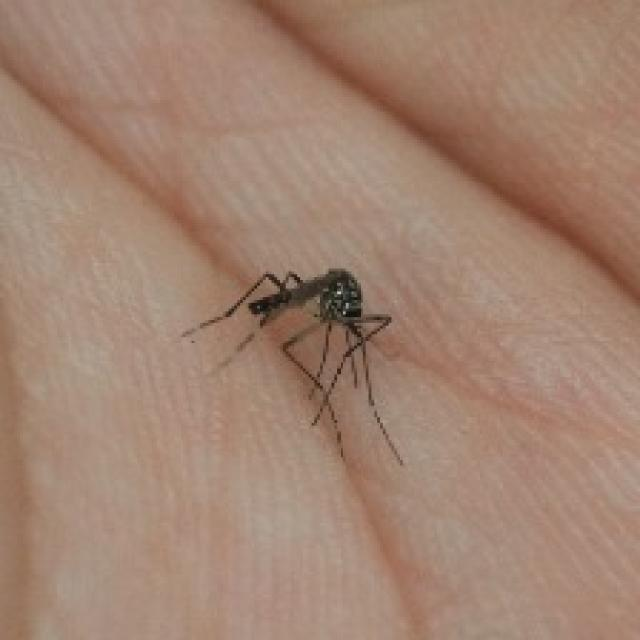aedes: (177, 263, 406, 466)
